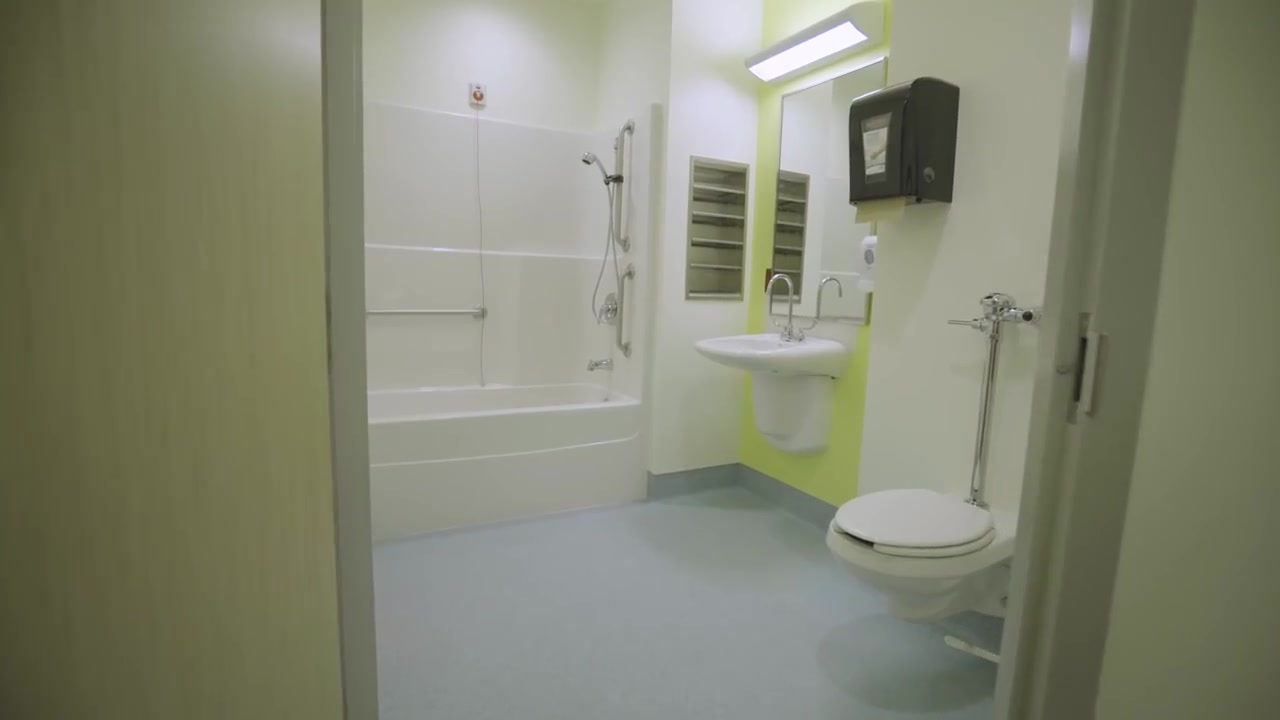dispenser: (849, 77, 963, 219), (858, 236, 877, 295)
faucet: (805, 276, 845, 339), (766, 274, 795, 342), (594, 289, 620, 329)
restroom_assist_bar: (613, 119, 636, 253), (613, 265, 640, 362), (358, 304, 486, 323)
sink: (694, 334, 845, 376)
toilet: (824, 487, 1014, 620)
toilet_handle: (946, 316, 986, 332)
